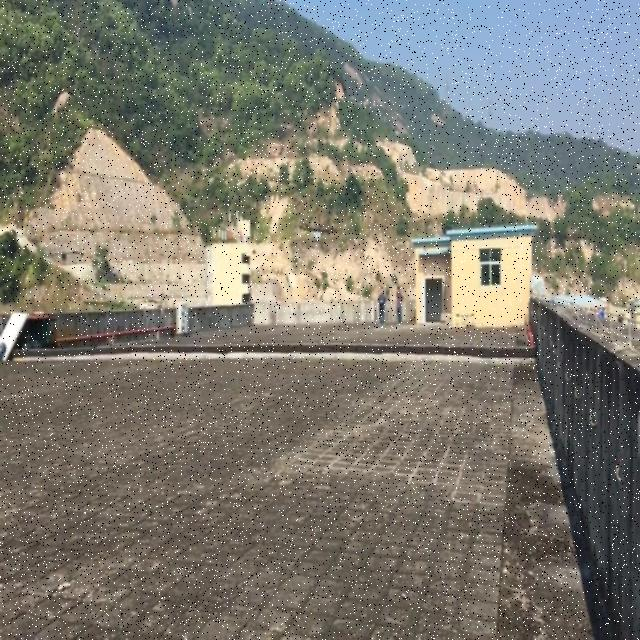UAV: (298, 223, 338, 249)
